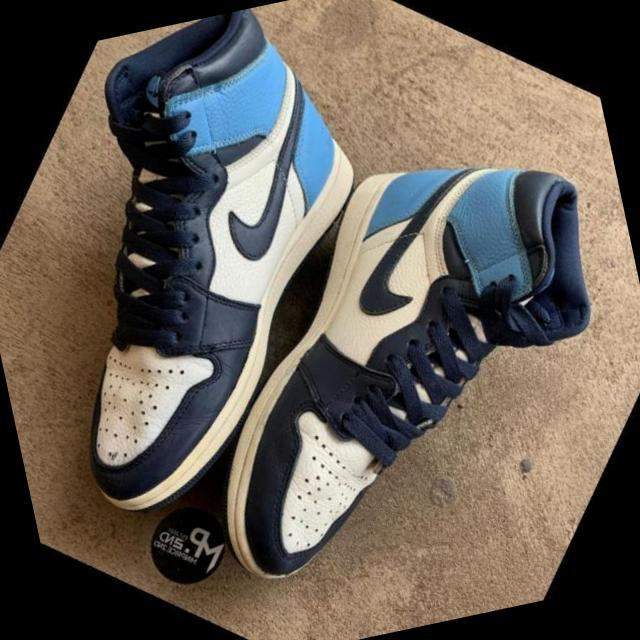nike_original_jordan: (103, 55, 640, 640), (0, 0, 497, 579)
